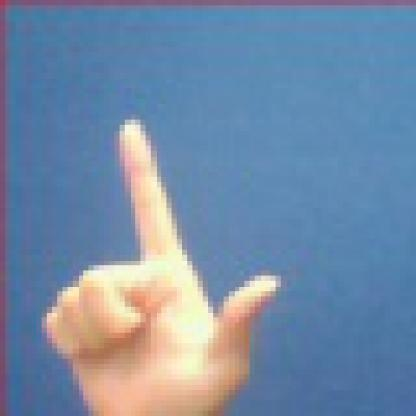seven: (21, 99, 317, 411)
